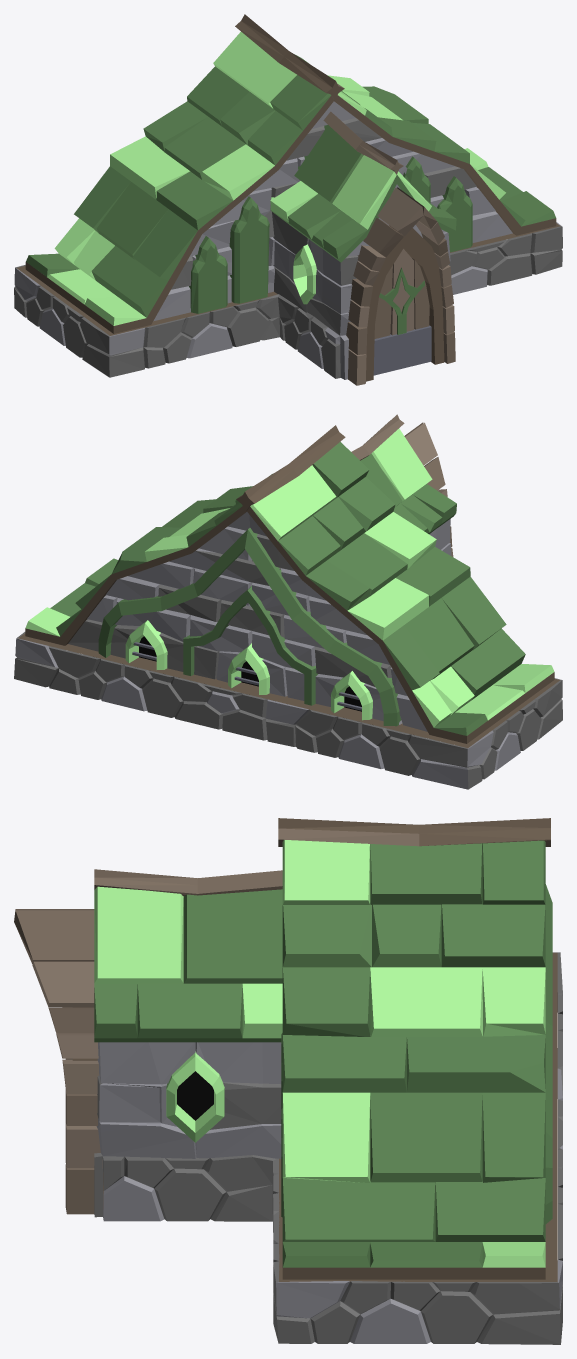
File: House.fbx
3 renders of one model, top to bottom at view 1: azimuth 30°, elevation 25°; view 2: azimuth 150°, elevation 25°; view 3: azimuth 270°, elevation 25°, orthographic. The views are drawn at different scales.
Visible parts, largest first — view 1: prison; view 2: prison; view 3: prison.
Boxes of the visible parts, bbox=[...] form: prison: bbox=[14, 14, 562, 385]; prison: bbox=[14, 414, 562, 789]; prison: bbox=[14, 818, 562, 1344].
Size of the model in its own units: 993 by 501 by 691.
